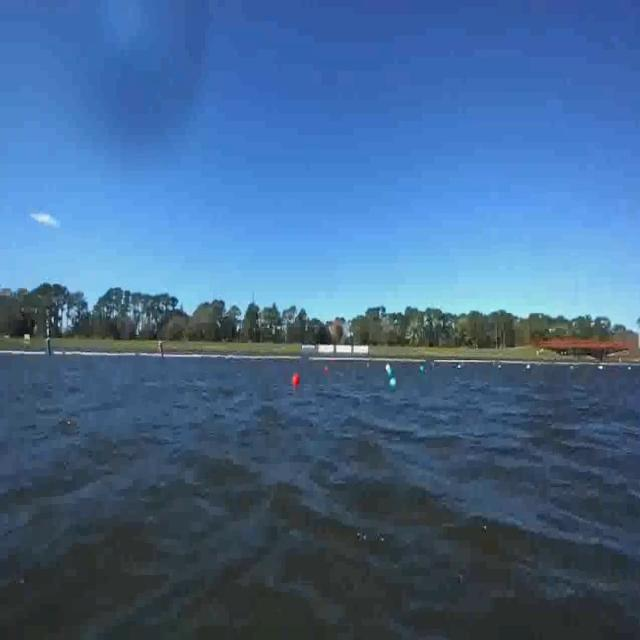green-buoy: (387, 374, 399, 394)
red-buoy: (292, 372, 299, 384)
